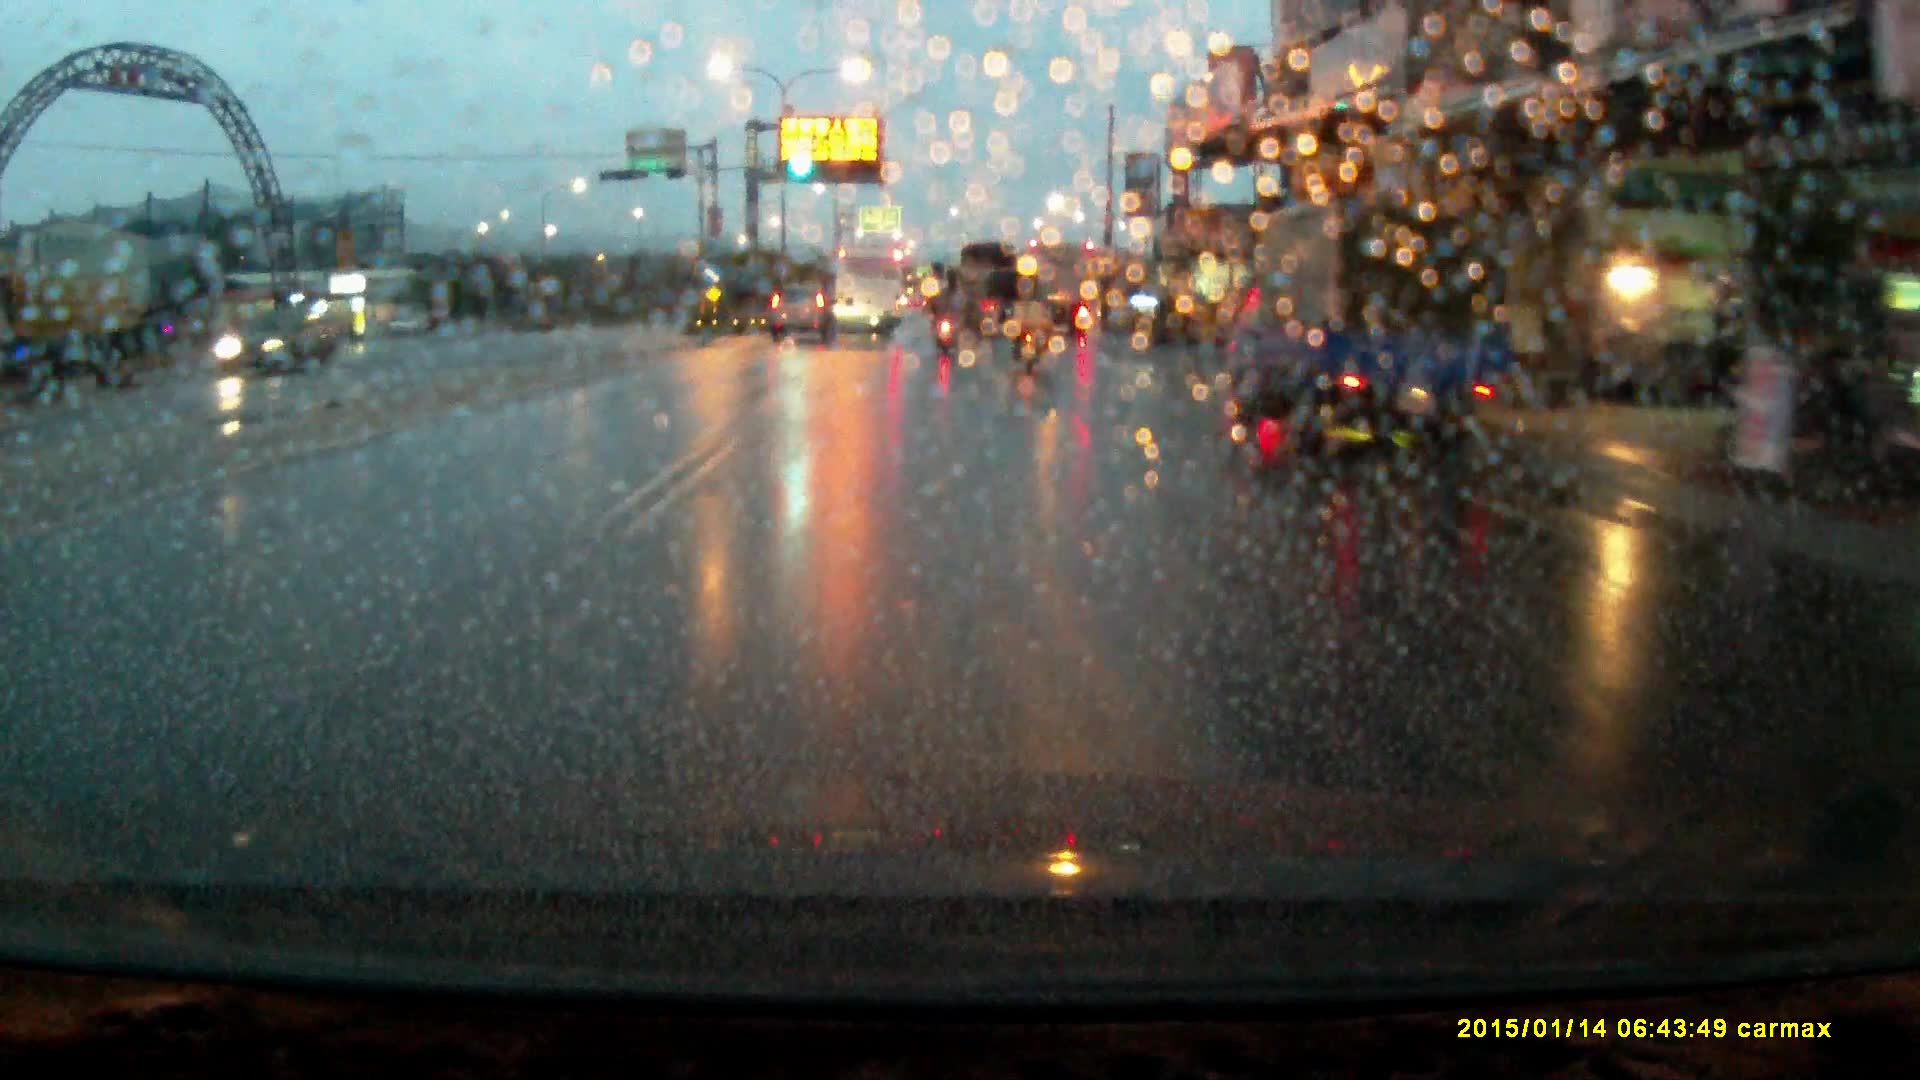rider: (1006, 280, 1052, 376), (931, 285, 959, 354)
vehicle: (1213, 187, 1515, 462), (1, 271, 153, 392), (213, 310, 330, 383), (957, 244, 1030, 335), (831, 247, 903, 334), (1027, 246, 1094, 331), (769, 284, 836, 340)
